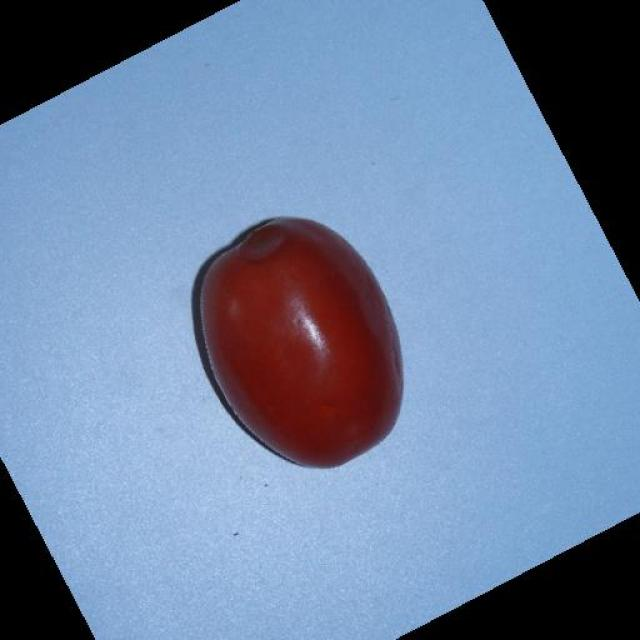Stale_tomato: (189, 200, 452, 474)
